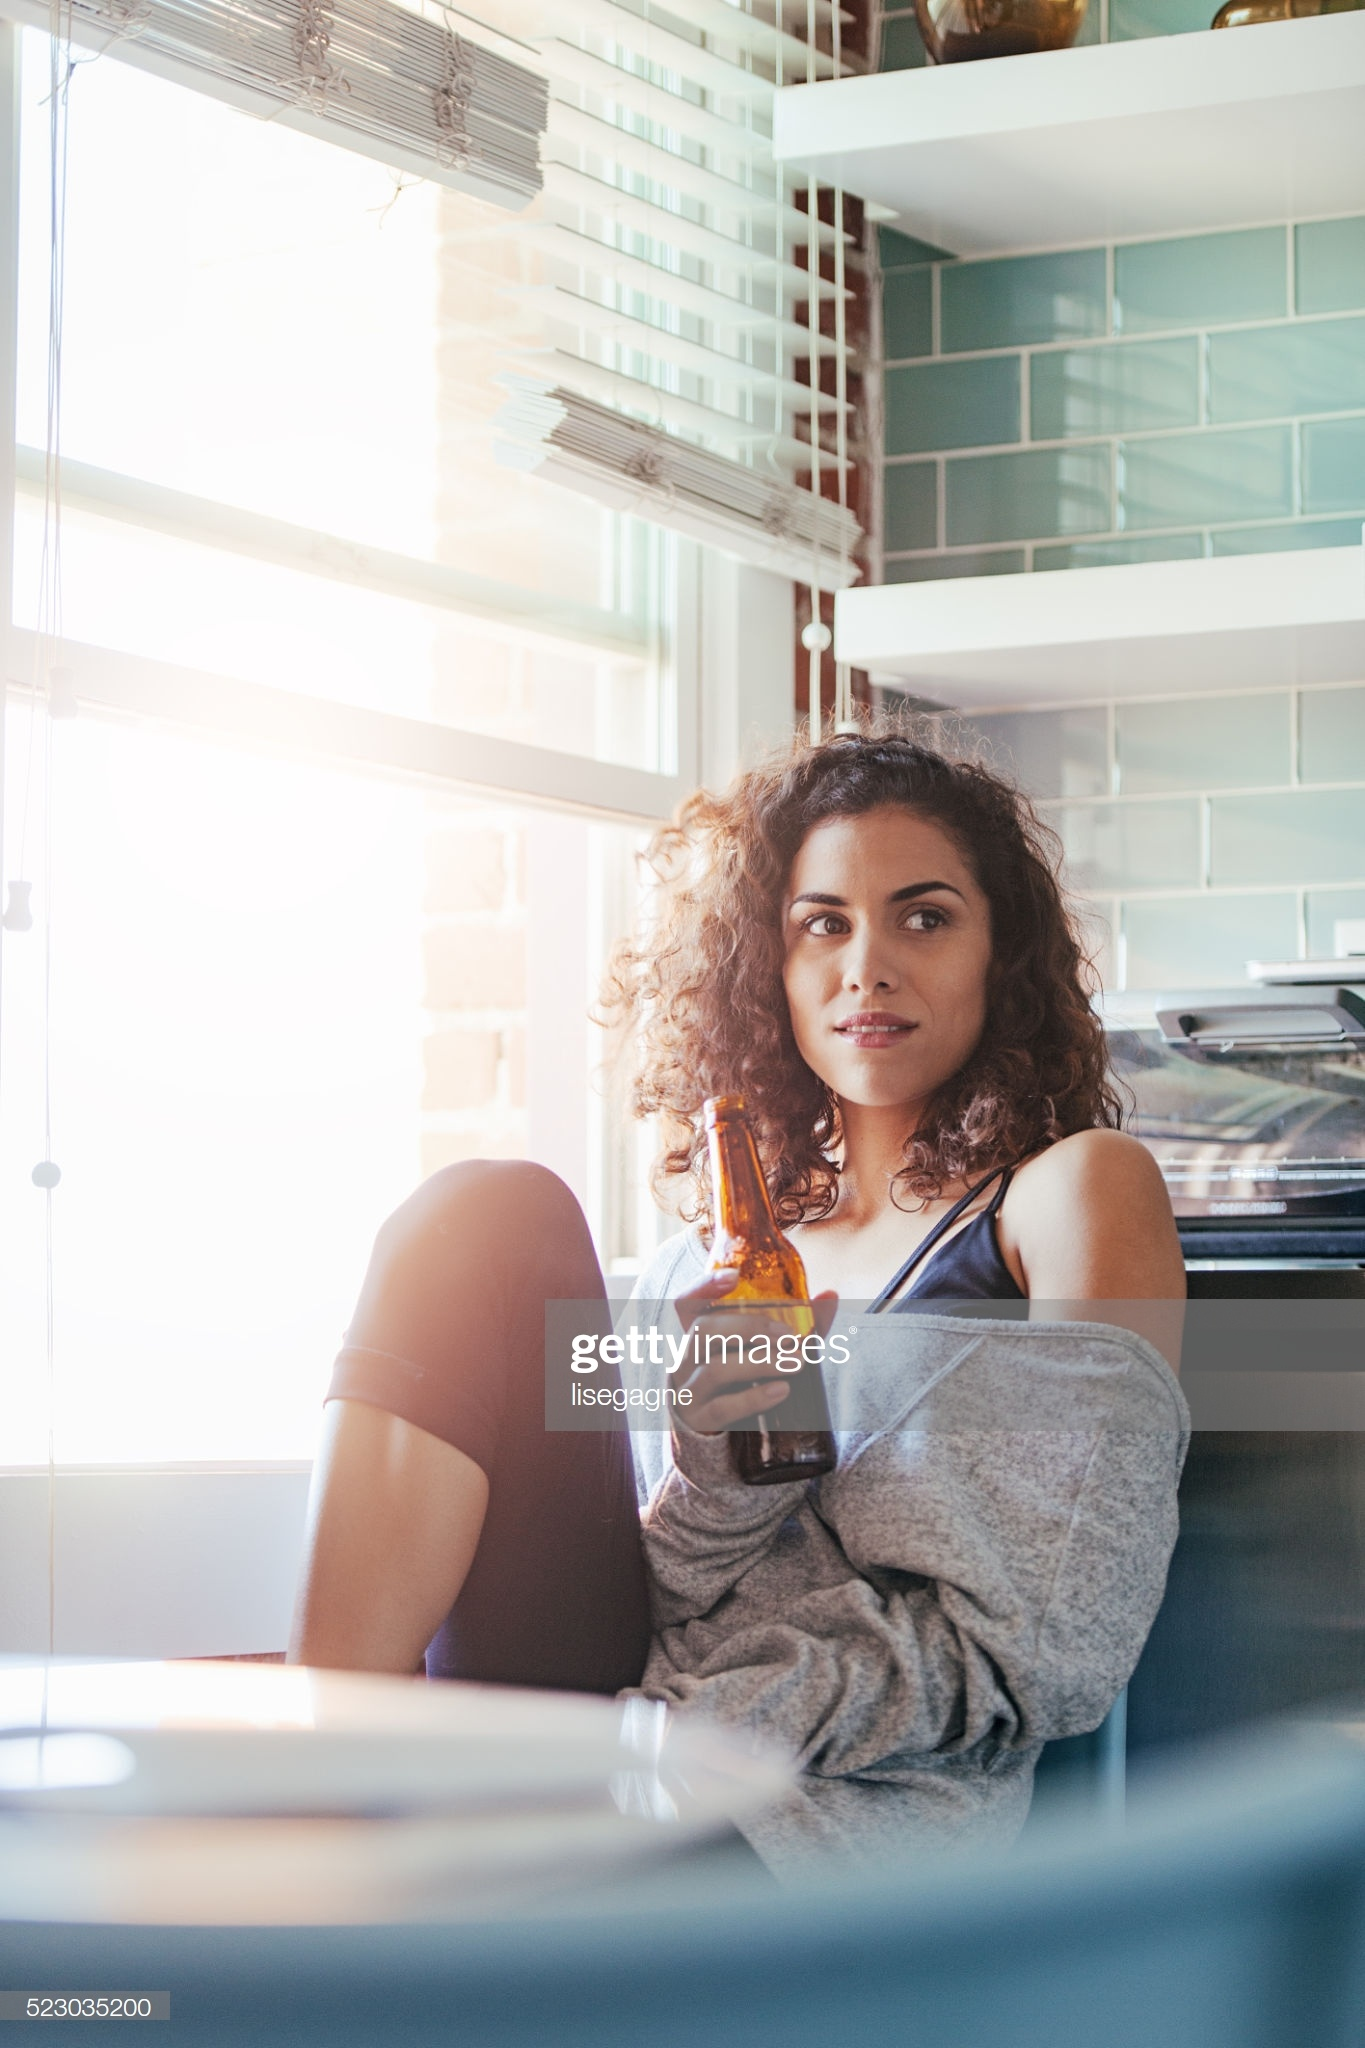beerBottle: (679, 1089, 861, 1472)
